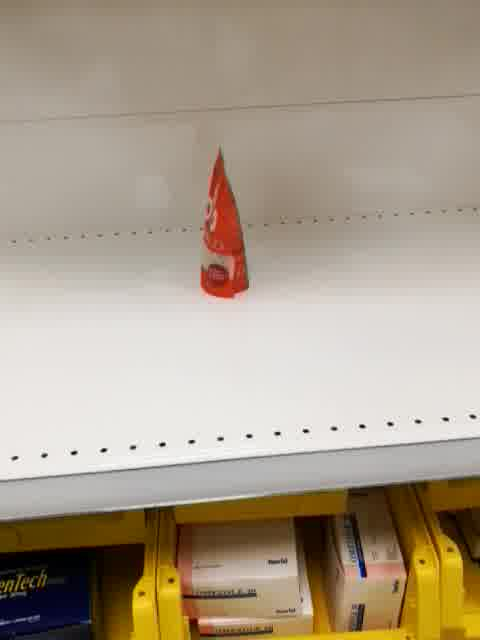whitechia: (197, 142, 255, 301)
